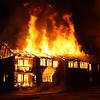accident: (2, 41, 96, 90)
